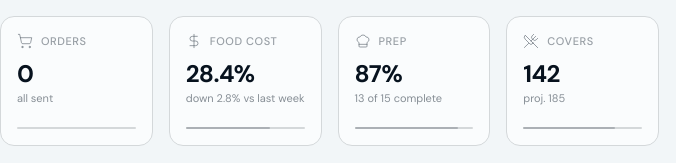
SolitaireCards — dashboard interactions (UI-001) › expands a card on click and shows detail overlay
The image size is (676, 163).
Click the button "Orders 0 all sent" at {"x": 76, "y": 81}, box [0,16,153,146]
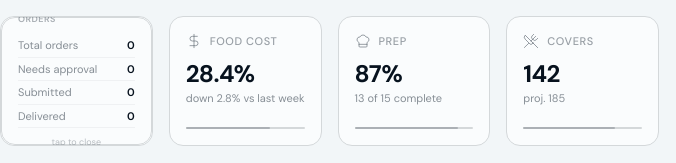
Expected: the text "tap to close" is shown, [52,136,101,146]
